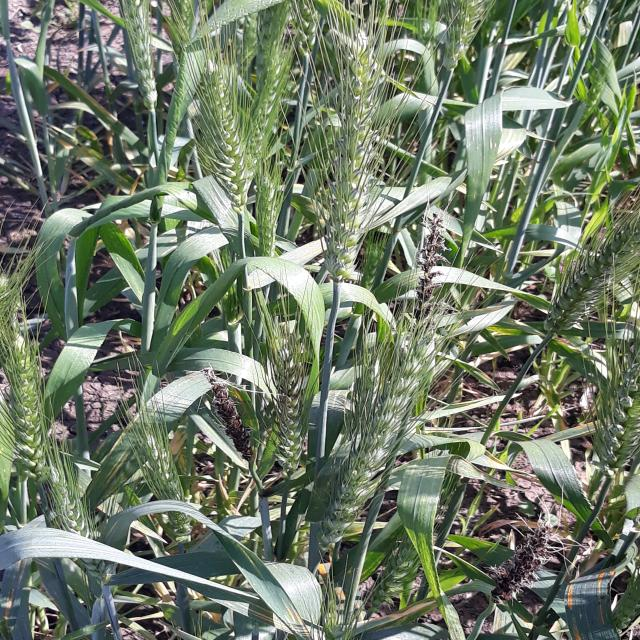loose_charred: (387, 203, 470, 392), (193, 351, 291, 484), (471, 525, 573, 618)
yellow_rust: (117, 581, 227, 637), (562, 565, 630, 640), (2, 553, 50, 640), (351, 598, 458, 636), (242, 588, 318, 640), (543, 390, 606, 450), (120, 418, 150, 493), (194, 523, 231, 558), (310, 562, 351, 586)
